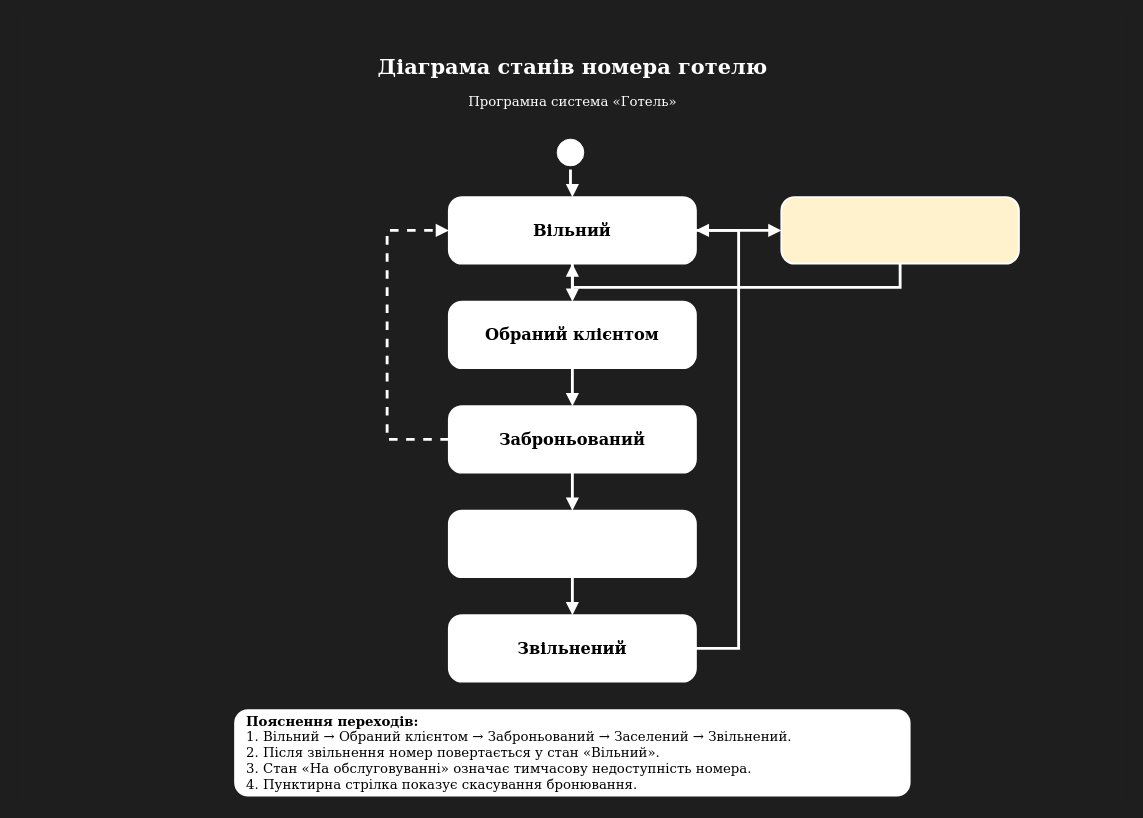
Image size: 1143x818. Some labels were removed from this diagram. Here are the shapes that lost their labels. From the top down, the centre of each, then its label:
pixel 899 230: На обслуговуванні
pixel 571 543: Заселений
